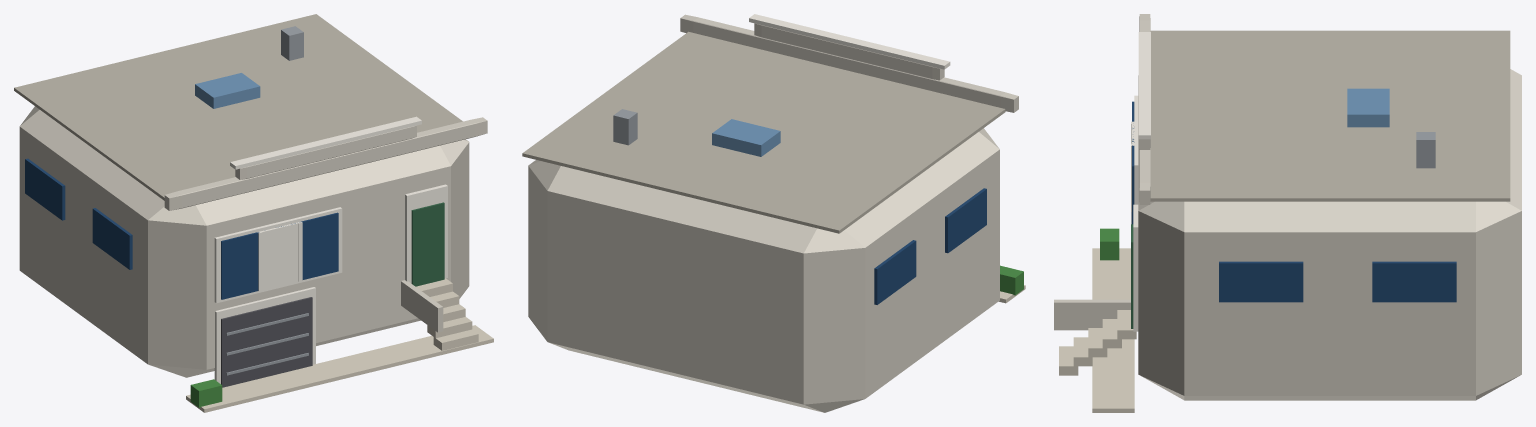
File: sunset_w11_stepped_pic.glb
3 views of the same model, side by side, from view 1: azimuth 30°, elevation 25°; view 2: azimuth 150°, elevation 25°; view 3: azimuth 270°, elevation 25° (orthographic). The views are drawn at different scales.
Parts seen in each view (by area): view 1: walls, roofslab, gdoor, patio, pp1, pwin, door, pp2, pmull, pcap, pfr, gfr (+9 smaller); view 2: walls, roofslab, pp1, pp2, pcap, skylt, sb.002, sb, pipe, hedge; view 3: walls, roofslab, patio, sb.003, sb.001, srail, skylt, pcap, pp1, dfr, pipe, hedge (+6 smaller).
Boxes of the visible parts, left/top/right/bottom form: walls: left=19, top=106, right=469, bottom=377; roofslab: left=14, top=14, right=462, bottom=200; gdoor: left=221, top=297, right=312, bottom=387; patio: left=186, top=325, right=493, bottom=412; pp1: left=164, top=117, right=487, bottom=210; pwin: left=221, top=212, right=338, bottom=299; door: left=411, top=202, right=444, bottom=286; pp2: left=235, top=125, right=416, bottom=179; pmull: left=261, top=222, right=299, bottom=289; pcap: left=230, top=116, right=421, bottom=169; pfr: left=214, top=207, right=342, bottom=303; gfr: left=214, top=287, right=315, bottom=383; walls: left=528, top=128, right=999, bottom=412; roofslab: left=522, top=31, right=1005, bottom=233; pp1: left=680, top=14, right=1018, bottom=112; pp2: left=754, top=23, right=944, bottom=80; pcap: left=749, top=14, right=950, bottom=69; skylt: left=712, top=119, right=780, bottom=156; sb.002: left=874, top=240, right=916, bottom=304; sb: left=945, top=188, right=986, bottom=253; pipe: left=613, top=109, right=637, bottom=145; hedge: left=1000, top=265, right=1023, bottom=295; walls: left=1138, top=69, right=1521, bottom=400; roofslab: left=1150, top=30, right=1510, bottom=201; patio: left=1092, top=248, right=1134, bottom=412; sb.003: left=1372, top=261, right=1456, bottom=302; sb.001: left=1219, top=261, right=1303, bottom=302; srail: left=1054, top=299, right=1130, bottom=330; skylt: left=1347, top=88, right=1389, bottom=127; pcap: left=1138, top=32, right=1150, bottom=139; pp1: left=1139, top=14, right=1150, bottom=204; dfr: left=1133, top=204, right=1138, bottom=331; pipe: left=1416, top=132, right=1435, bottom=168; hedge: left=1100, top=228, right=1119, bottom=260.
Size of the model in its own units: 11.2 by 7.17 by 12.2.
